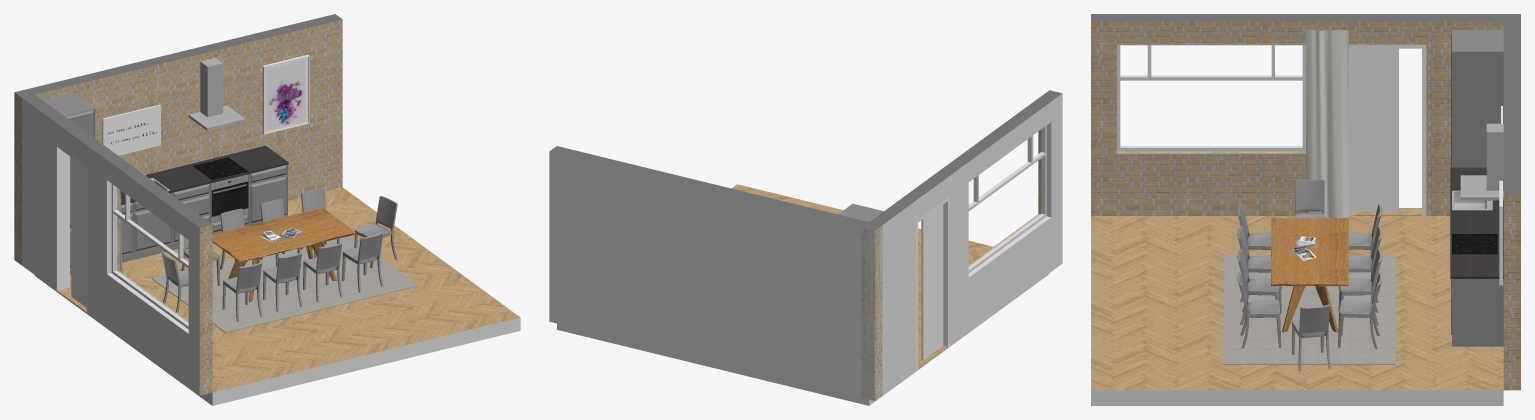
Rendered from room2.glb.
3 renders of one model, left to right at view 1: azimuth 30°, elevation 25°; view 2: azimuth 150°, elevation 25°; view 3: azimuth 270°, elevation 25°, orthographic. The views are drawn at different scales.
Size of the model in its own units: 5 by 2.7 by 5.
Materials: 38 (22 with a texture image).
